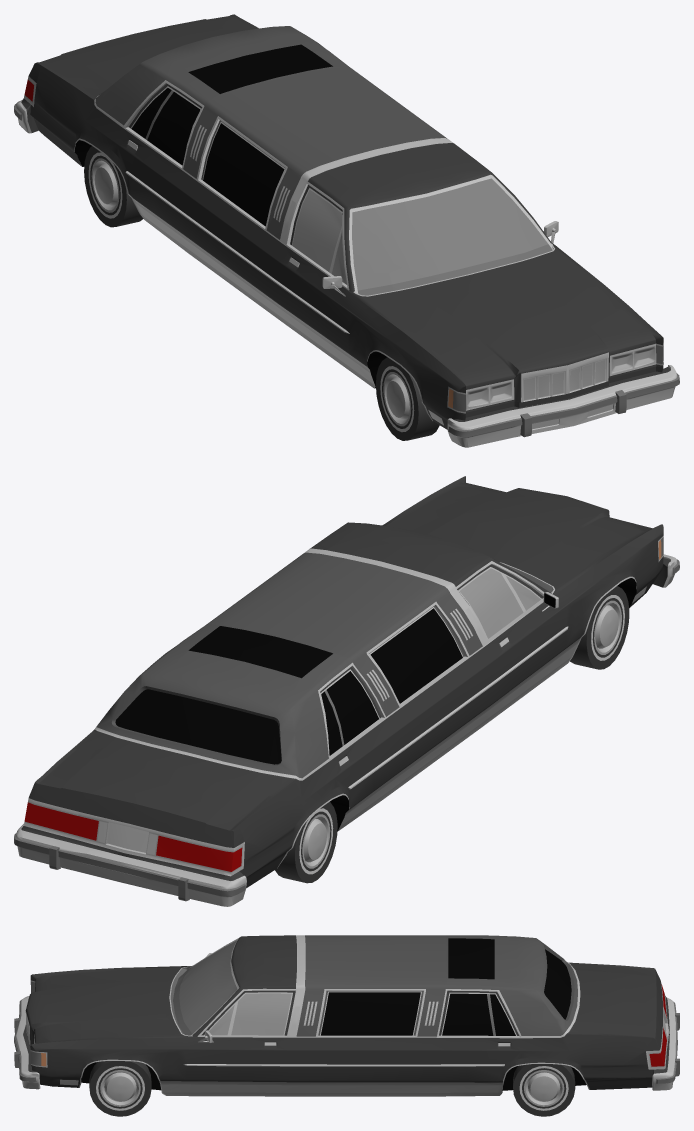
The model's file is car-limo.glb.
3 renders of one model, top to bottom at view 1: azimuth 30°, elevation 25°; view 2: azimuth 150°, elevation 25°; view 3: azimuth 270°, elevation 25°, orthographic. The views are drawn at different scales.
Parts seen in each view (by area): view 1: Object_2; view 2: Object_2; view 3: Object_2.
Part boxes in pixels (x1,y1,x2,y2): Object_2: (14, 14, 679, 447); Object_2: (14, 476, 679, 906); Object_2: (14, 935, 679, 1116).
Size of the model in its own units: 0.2964 by 0.2041 by 1.
